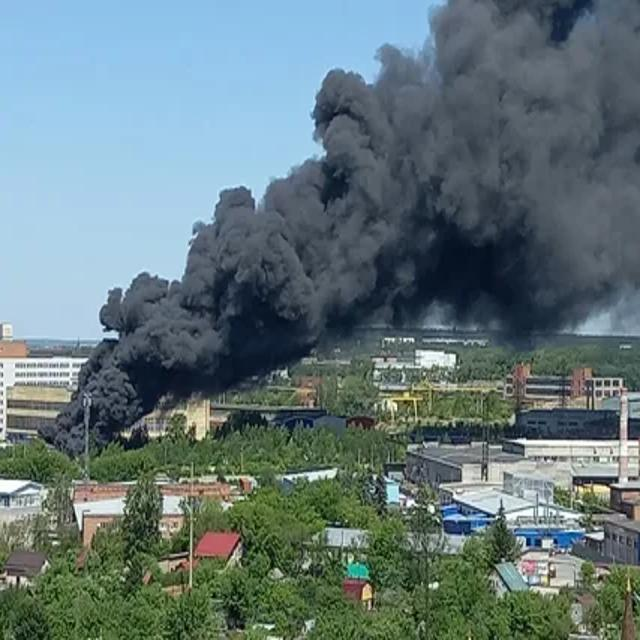Smoke: (40, 2, 640, 446)
